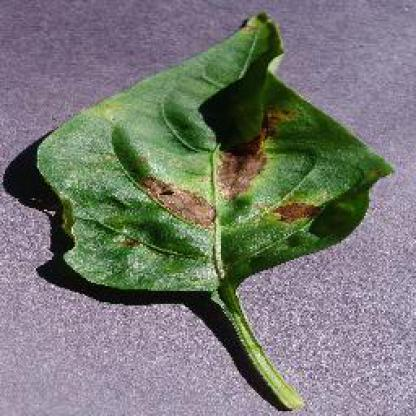bad leaf: (19, 9, 415, 415)
